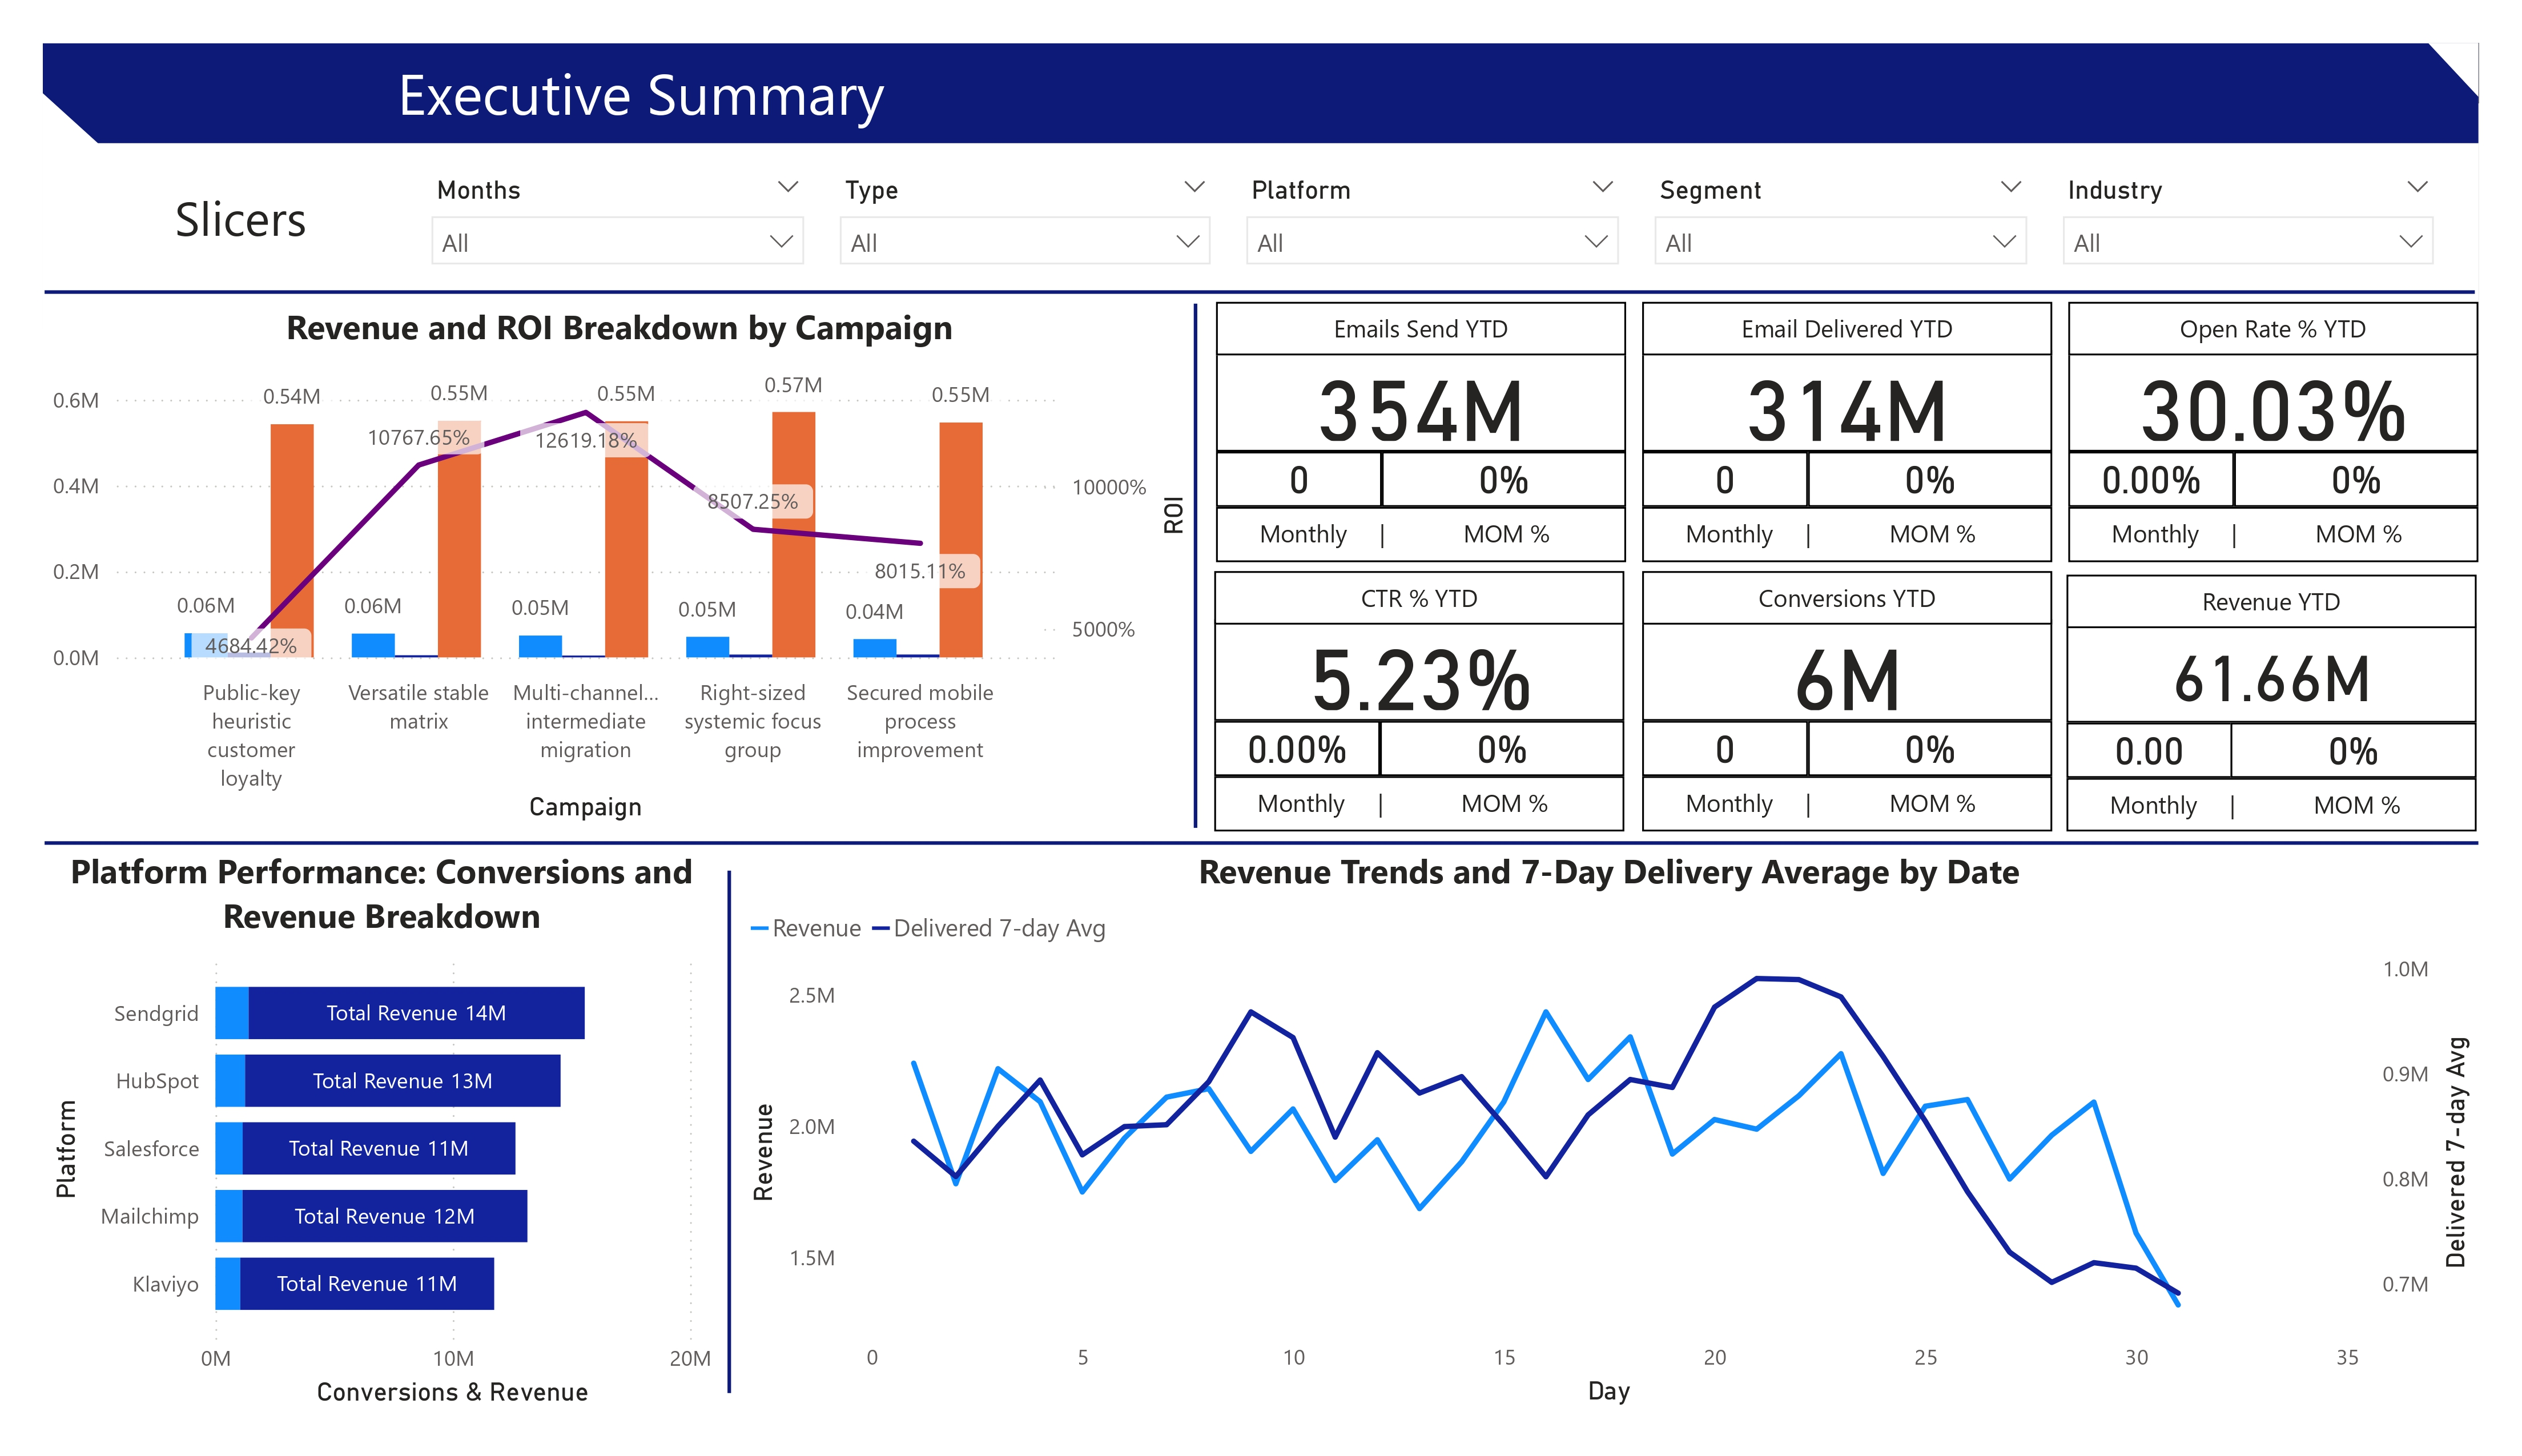

Layout of this report page (visuals, bound fields, positions):
{"tool":"powerbi","page":{"name":"Executive Summary","canvas":[1366,768],"ordinal":0},"visuals":[{"type":"shape","box":[0,0,1365.7,55.7],"z":0,"group":"g8"},{"type":"card","fields":{"Values":["_Measures.Total Emails Sent (Static)"]},"box":[658.2,172.3,229.9,57.5],"z":0,"group":"g4"},{"type":"card","fields":{"Values":["_Measures.Total Emails Delivered (Static)"]},"box":[896.6,172.3,229.9,57.5],"z":0,"group":"g3"},{"type":"card","fields":{"Values":["_Measures.Total Open Rate % (Static)"]},"box":[1136.3,172.3,229.9,57.5],"z":0,"group":"g2"},{"type":"card","fields":{"Values":["_Measures.Total CTR % (Static)"]},"box":[657,322.5,229.9,57.5],"z":0,"group":"g6"},{"type":"card","fields":{"Values":["_Measures.Total Conversions (Static)"]},"box":[897,322.5,229.9,57.5],"z":0,"group":"g5"},{"type":"card","fields":{"Values":["_Measures.Total Revenue (YTD - Static)"]},"box":[1135.4,324.1,230,56.9],"z":0,"group":"g7"},{"type":"lineChart","title":"Revenue Trends and 7-Day Delivery Average by Date","fields":{"Category":["Dim_Time.Send_Date.Variation.Date Hierarchy.Year","Dim_Time.Send_Date.Variation.Date Hierarchy.Quarter","Dim_Time.Send_Date.Variation.Date Hierarchy.Month","Dim_Time.Send_Date.Variation.Date Hierarchy.Day"],"Y":["_Measures.Total Revenue"],"Y2":["_Measures.Delivered 7-day Avg"]},"box":[391.4,451.4,974.3,317.1],"z":0},{"type":"shape","box":[1337.5,0,28.3,30],"z":1000,"group":"g8"},{"type":"card","fields":{"Values":["_Measures.Current Month Emails Sent"]},"box":[658.2,229.8,92.9,30.6],"z":1000,"group":"g4"},{"type":"card","fields":{"Values":["_Measures.Current Month Emails Delivered"]},"box":[896.6,229.8,92.9,30.6],"z":1000,"group":"g3"},{"type":"card","fields":{"Values":["_Measures.Current Month Open Rate %"]},"box":[1136.3,229.8,92.9,30.6],"z":1000,"group":"g2"},{"type":"card","fields":{"Values":["_Measures.Current Month CTR %"]},"box":[657,380,92.9,30.6],"z":1000,"group":"g6"},{"type":"card","fields":{"Values":["_Measures.Current Month Conversions"]},"box":[897,380,92.9,30.6],"z":1000,"group":"g5"},{"type":"card","fields":{"Values":["_Measures.Current Month Revenue"]},"box":[1135.4,381,93,30.3],"z":1000,"group":"g7"},{"type":"barChart","title":"Platform Performance: Conversions and Revenue Breakdown","fields":{"Category":["Fact_CampaignMetrics.Platform"],"Y":["_Measures.Total Conversions","_Measures.Total Revenue"]},"box":[0,451.4,380,317.1],"z":1000},{"type":"lineClusteredColumnComboChart","title":"Revenue and ROI Breakdown by Campaign","fields":{"Category":["Dim_Campaigns.Campaign_Name"],"Y":["_Measures.Total Conversions","_Measures.Total Campaign Cost","_Measures.Total Revenue"],"Y2":["_Measures.ROI"]},"box":[0,145.7,647.1,295.7],"z":2000},{"type":"card","fields":{"Values":["_Measures.MoM % Change Emails Sent"]},"box":[751.1,229.8,137,30.6],"z":2000,"group":"g4"},{"type":"card","fields":{"Values":["_Measures.MoM % Change Emails Delivered"]},"box":[989.5,229.8,137,30.6],"z":2000,"group":"g3"},{"type":"card","fields":{"Values":["_Measures.MoM % Change open rate"]},"box":[1229.2,229.8,137,30.6],"z":2000,"group":"g2"},{"type":"card","fields":{"Values":["_Measures.MoM % Change CTR"]},"box":[749.9,380,137,30.6],"z":2000,"group":"g6"},{"type":"card","fields":{"Values":["_Measures.MoM % Change Conversions"]},"box":[989.9,380,137,30.6],"z":2000,"group":"g5"},{"type":"card","fields":{"Values":["_Measures.MoM % Change with Arrow"]},"box":[1227.8,380.6,137.3,30.7],"z":2000,"group":"g7"},{"type":"shape","box":[0,27.5,32,29.8],"z":3000,"group":"g8"},{"type":"group","id":"g1","title":"Group 2","box":[14.3,68.6,1337.1,64.3],"z":3000},{"type":"textbox","box":[658.2,145.4,229.9,30],"z":3000,"group":"g4"},{"type":"textbox","box":[896.6,145.4,229.9,30],"z":3000,"group":"g3"},{"type":"textbox","box":[1136.3,145.4,229.9,30],"z":3000,"group":"g2"},{"type":"textbox","box":[657,295.6,229.9,30],"z":3000,"group":"g6"},{"type":"textbox","box":[897,295.6,229.9,30],"z":3000,"group":"g5"},{"type":"textbox","box":[1135.4,297.5,230,29.7],"z":3000,"group":"g7"},{"type":"shape","box":[1.4,132.9,1362.9,12.9],"z":4000},{"type":"textbox","box":[658.2,260.3,229.9,30.6],"z":4000,"group":"g4"},{"type":"textbox","box":[896.6,260.3,229.9,30.6],"z":4000,"group":"g3"},{"type":"textbox","box":[1136.3,260.3,229.9,30.6],"z":4000,"group":"g2"},{"type":"textbox","box":[657,410.5,229.9,30.6],"z":4000,"group":"g6"},{"type":"textbox","box":[897,410.5,229.9,30.6],"z":4000,"group":"g5"},{"type":"textbox","box":[1135.4,411.2,230,30.3],"z":4000,"group":"g7"},{"type":"textbox","box":[14.3,73.6,194.3,54.3],"z":5000,"group":"g1"},{"type":"group","id":"g2","title":"Group 1","box":[1136.3,145.4,229.9,145.5],"z":5000},{"type":"textbox","box":[194.4,0,300.8,55],"z":6000,"group":"g8"},{"type":"slicer","fields":{"Values":["Dim_Campaigns.Platform"]},"box":[665.7,68.6,228.6,64.3],"z":6000,"group":"g1"},{"type":"group","id":"g3","title":"Group 1","box":[896.6,145.4,229.9,145.5],"z":6000},{"type":"slicer","fields":{"Values":["Dim_Campaigns.Type"]},"box":[437.2,68.6,228.6,64.3],"z":7000,"group":"g1"},{"type":"group","id":"g4","title":"Group 1","box":[658.2,145.4,229.9,145.5],"z":7000},{"type":"slicer","fields":{"Values":["Dim_Audience.Segment_Name"]},"box":[894.3,68.6,228.6,64.3],"z":8000,"group":"g1"},{"type":"group","id":"g5","title":"Group 1","box":[897,295.6,229.2,145.8],"z":8000},{"type":"slicer","fields":{"Values":["Dim_Campaigns.Industry_Segment"]},"box":[1122.9,68.6,228.6,64.3],"z":9000,"group":"g1"},{"type":"group","id":"g6","title":"Group 1","box":[657,295.6,230,145.8],"z":9000},{"type":"slicer","fields":{"Values":["Dim_Time.Month Name"]},"box":[208.6,68.6,228.6,64.3],"z":10000,"group":"g1"},{"type":"group","id":"g7","title":"Group 1","box":[1135.4,297.5,229.9,144.3],"z":10000},{"type":"shape","box":[1.4,440,1364.3,17.1],"z":11000},{"type":"shape","box":[378.6,464.3,12.9,292.9],"z":12000},{"type":"shape","box":[640,145.7,12.9,294.3],"z":13000},{"type":"group","id":"g8","title":"Group 3","box":[0,0,1365.8,57.2],"z":14000}]}

Visuals, with their boxes on the page's 1366x768 design canvas (x1, y1, x2, y2). These are canvas units, not pixel positions in the 2522x1456 screenshot, which may show the page scaled, cropped or inside an application window:
shape: [left=0, top=0, right=1366, bottom=56]
card - _Measures.Total Emails Sent (Static): [left=658, top=172, right=888, bottom=230]
card - _Measures.Total Emails Delivered (Static): [left=897, top=172, right=1126, bottom=230]
card - _Measures.Total Open Rate % (Static): [left=1136, top=172, right=1366, bottom=230]
card - _Measures.Total CTR % (Static): [left=657, top=322, right=887, bottom=380]
card - _Measures.Total Conversions (Static): [left=897, top=322, right=1127, bottom=380]
card - _Measures.Total Revenue (YTD - Static): [left=1135, top=324, right=1365, bottom=381]
"Revenue Trends and 7-Day Delivery Average by Date" lineChart: [left=391, top=451, right=1366, bottom=768]
shape: [left=1338, top=0, right=1366, bottom=30]
card - _Measures.Current Month Emails Sent: [left=658, top=230, right=751, bottom=260]
card - _Measures.Current Month Emails Delivered: [left=897, top=230, right=990, bottom=260]
card - _Measures.Current Month Open Rate %: [left=1136, top=230, right=1229, bottom=260]
card - _Measures.Current Month CTR %: [left=657, top=380, right=750, bottom=411]
card - _Measures.Current Month Conversions: [left=897, top=380, right=990, bottom=411]
card - _Measures.Current Month Revenue: [left=1135, top=381, right=1228, bottom=411]
"Platform Performance: Conversions and Revenue Breakdown" barChart: [left=0, top=451, right=380, bottom=768]
"Revenue and ROI Breakdown by Campaign" lineClusteredColumnComboChart: [left=0, top=146, right=647, bottom=441]
card - _Measures.MoM % Change Emails Sent: [left=751, top=230, right=888, bottom=260]
card - _Measures.MoM % Change Emails Delivered: [left=990, top=230, right=1126, bottom=260]
card - _Measures.MoM % Change open rate: [left=1229, top=230, right=1366, bottom=260]
card - _Measures.MoM % Change CTR: [left=750, top=380, right=887, bottom=411]
card - _Measures.MoM % Change Conversions: [left=990, top=380, right=1127, bottom=411]
card - _Measures.MoM % Change with Arrow: [left=1228, top=381, right=1365, bottom=411]
shape: [left=0, top=28, right=32, bottom=57]
"Group 2" group: [left=14, top=69, right=1351, bottom=133]
textbox: [left=658, top=145, right=888, bottom=175]
textbox: [left=897, top=145, right=1126, bottom=175]
textbox: [left=1136, top=145, right=1366, bottom=175]
textbox: [left=657, top=296, right=887, bottom=326]
textbox: [left=897, top=296, right=1127, bottom=326]
textbox: [left=1135, top=298, right=1365, bottom=327]
shape: [left=1, top=133, right=1364, bottom=146]
textbox: [left=658, top=260, right=888, bottom=291]
textbox: [left=897, top=260, right=1126, bottom=291]
textbox: [left=1136, top=260, right=1366, bottom=291]
textbox: [left=657, top=410, right=887, bottom=441]
textbox: [left=897, top=410, right=1127, bottom=441]
textbox: [left=1135, top=411, right=1365, bottom=442]
textbox: [left=14, top=74, right=209, bottom=128]
"Group 1" group: [left=1136, top=145, right=1366, bottom=291]
textbox: [left=194, top=0, right=495, bottom=55]
slicer - Dim_Campaigns.Platform: [left=666, top=69, right=894, bottom=133]
"Group 1" group: [left=897, top=145, right=1126, bottom=291]
slicer - Dim_Campaigns.Type: [left=437, top=69, right=666, bottom=133]
"Group 1" group: [left=658, top=145, right=888, bottom=291]
slicer - Dim_Audience.Segment_Name: [left=894, top=69, right=1123, bottom=133]
"Group 1" group: [left=897, top=296, right=1126, bottom=441]
slicer - Dim_Campaigns.Industry_Segment: [left=1123, top=69, right=1352, bottom=133]
"Group 1" group: [left=657, top=296, right=887, bottom=441]
slicer - Dim_Time.Month Name: [left=209, top=69, right=437, bottom=133]
"Group 1" group: [left=1135, top=298, right=1365, bottom=442]
shape: [left=1, top=440, right=1366, bottom=457]
shape: [left=379, top=464, right=392, bottom=757]
shape: [left=640, top=146, right=653, bottom=440]
"Group 3" group: [left=0, top=0, right=1366, bottom=57]
